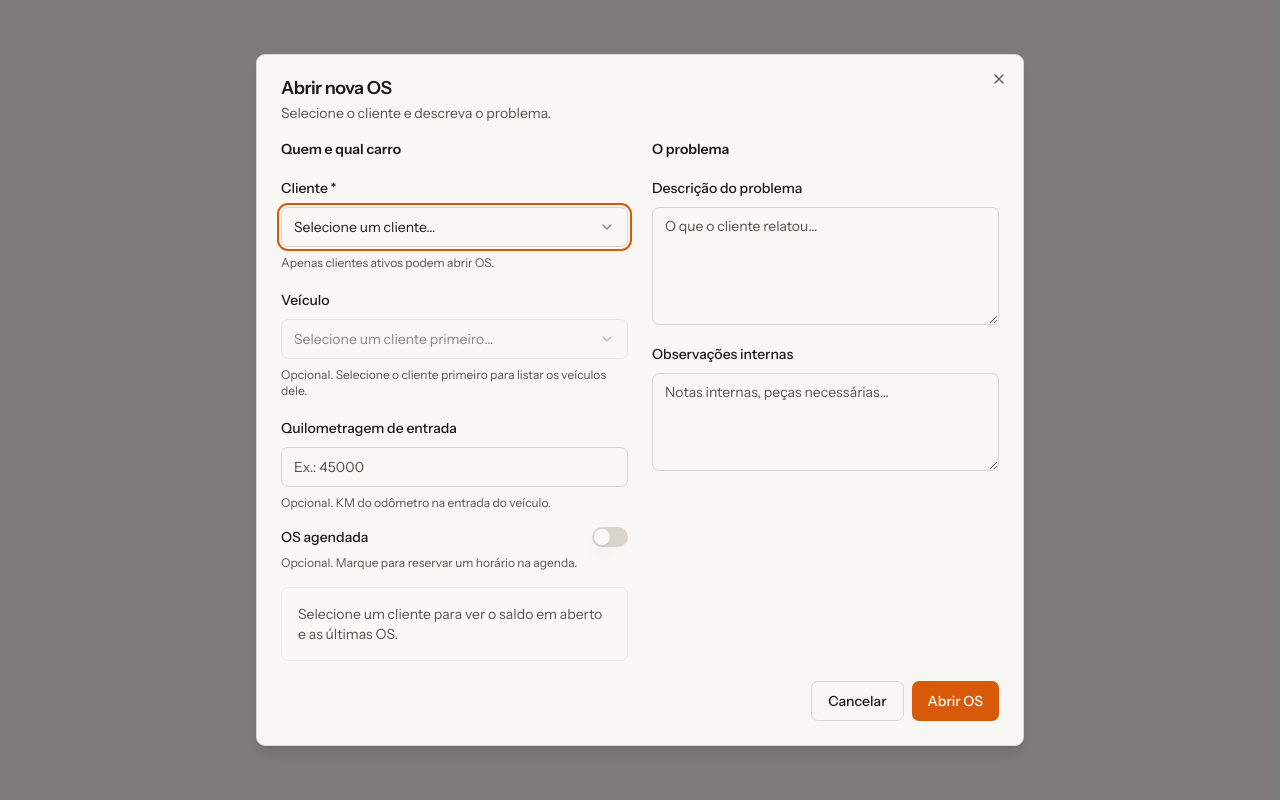
Test case: NovaOrdemModal › mostra o card de saldo do cliente ao selecioná-lo
The image size is (1280, 800).
Expected: the text "Selecione um cliente para ver o saldo" is shown, [298,605,602,643]
// Seleciona o cliente (primeiro combobox).
Click the dropdown labelled "Selecione um cliente…": (365, 227) [281,207,628,247]
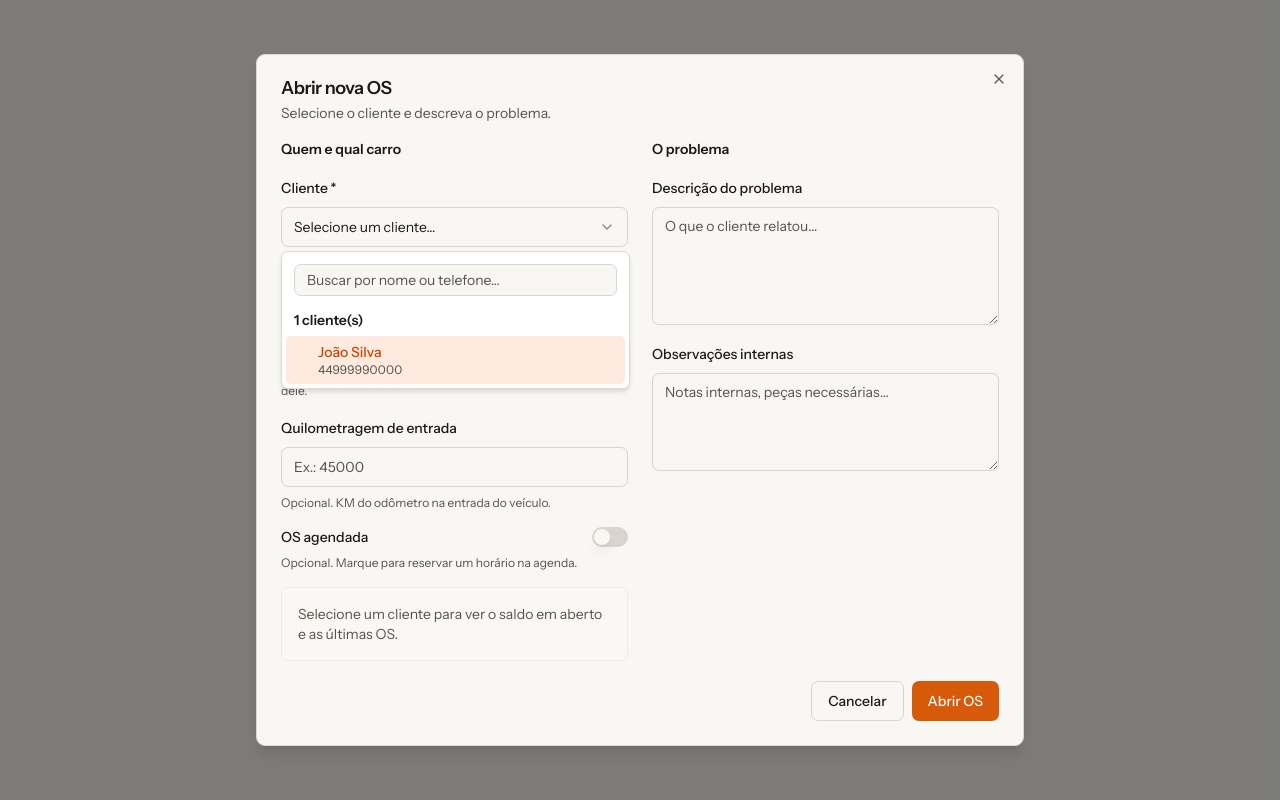
Click the option "João Silva 44999990000": (350, 352) [286,336,625,384]
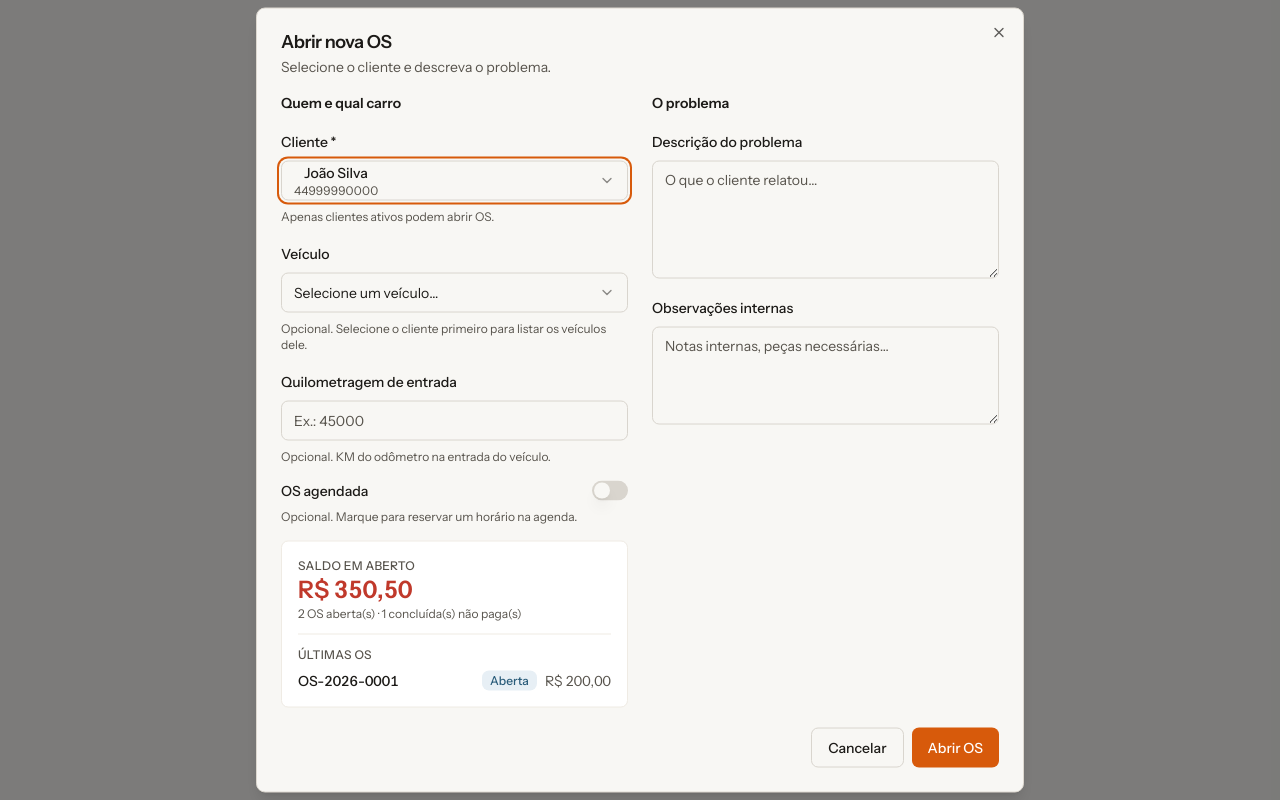
Now the text "R$ 350,50" is shown, box [298,574,412,604]
Now the text "2 OS aberta(s) · 1 concluída(s) não paga(s)" is shown, box [298,606,522,620]
Now the link "OS-2026-0001" is shown, box [298,670,398,690]
